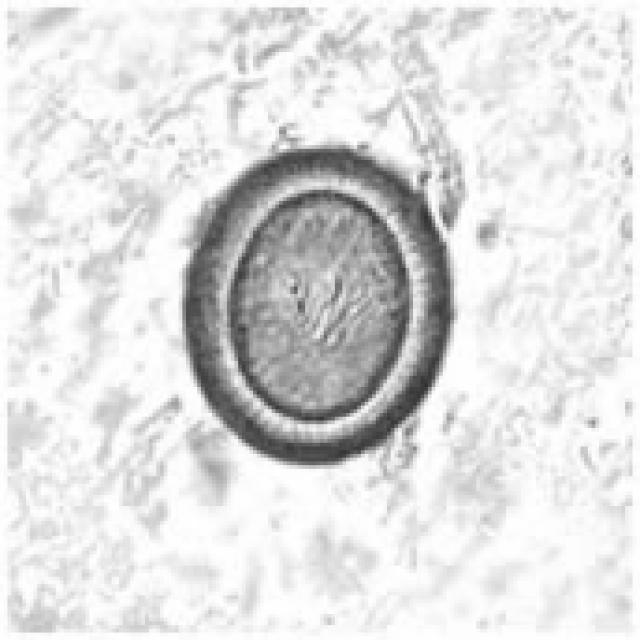Taenia Sp: (154, 132, 471, 475)
